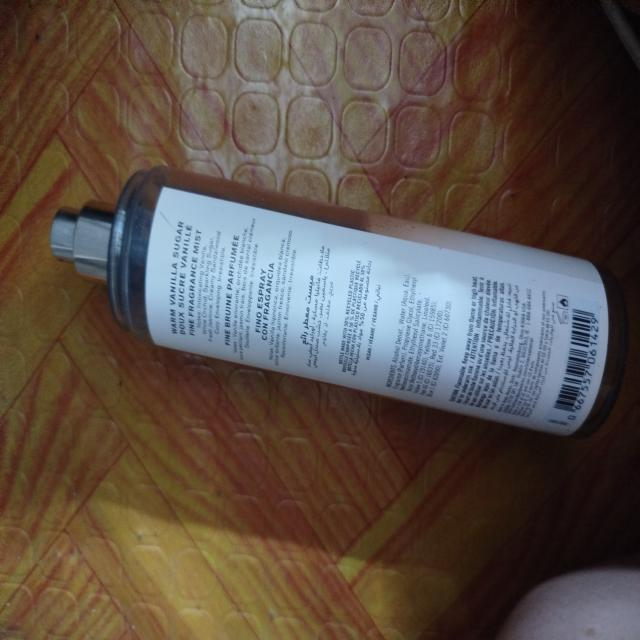plastic: (41, 147, 631, 456)
